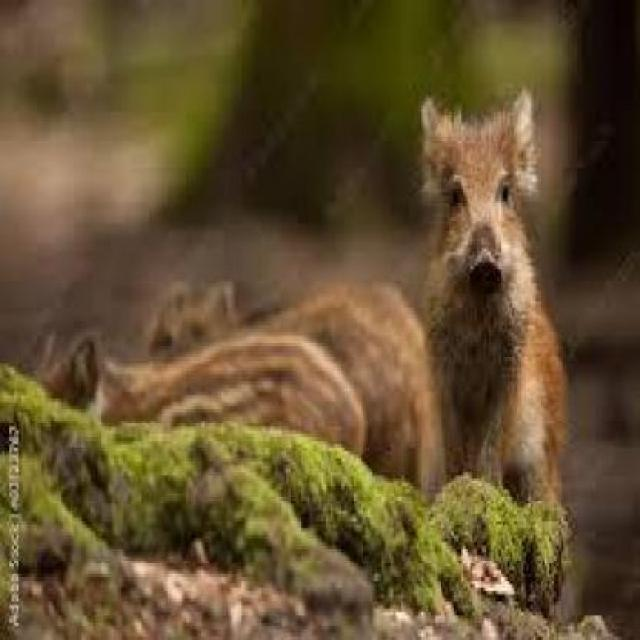Wild Boar: (424, 81, 569, 516), (146, 266, 442, 479), (29, 321, 371, 499)
